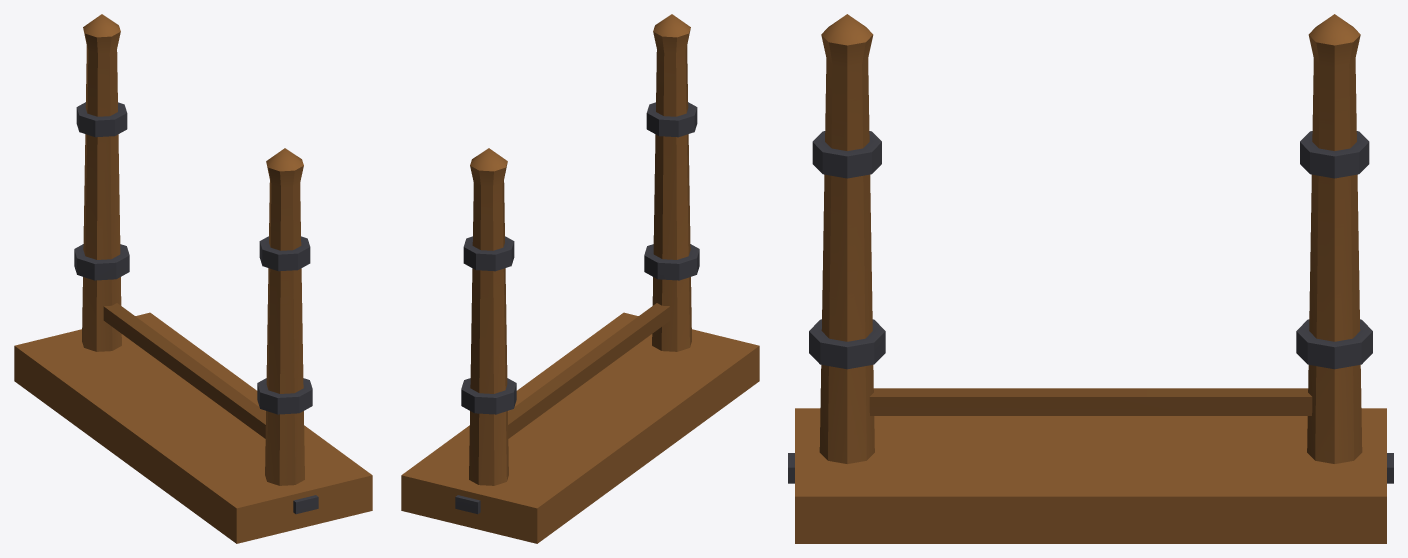
File: metal.glb
3 renders of one model, left to right at view 1: azimuth 30°, elevation 25°; view 2: azimuth 150°, elevation 25°; view 3: azimuth 270°, elevation 25°, orthographic. The views are drawn at different scales.
Visible parts, largest first — view 1: frame, dark; view 2: frame, dark; view 3: frame, dark.
Part boxes in pixels (box(x1,y1,x2,y2)): frame: box(14, 14, 372, 543); dark: box(74, 102, 318, 514); frame: box(401, 14, 759, 543); dark: box(455, 102, 699, 514); frame: box(795, 14, 1386, 543); dark: box(788, 131, 1393, 483).
Size of the model in its own units: 1.2 by 3.08 by 3.48.
